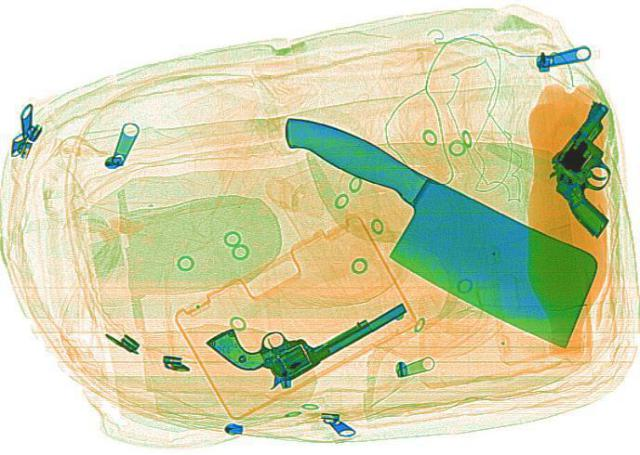Gun: (200, 262, 414, 392), (548, 102, 608, 235)
Knife: (217, 106, 638, 353)
